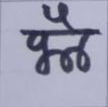au_matra: (52, 4, 96, 69)
